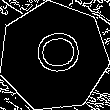O_W: (26, 32, 81, 81)
